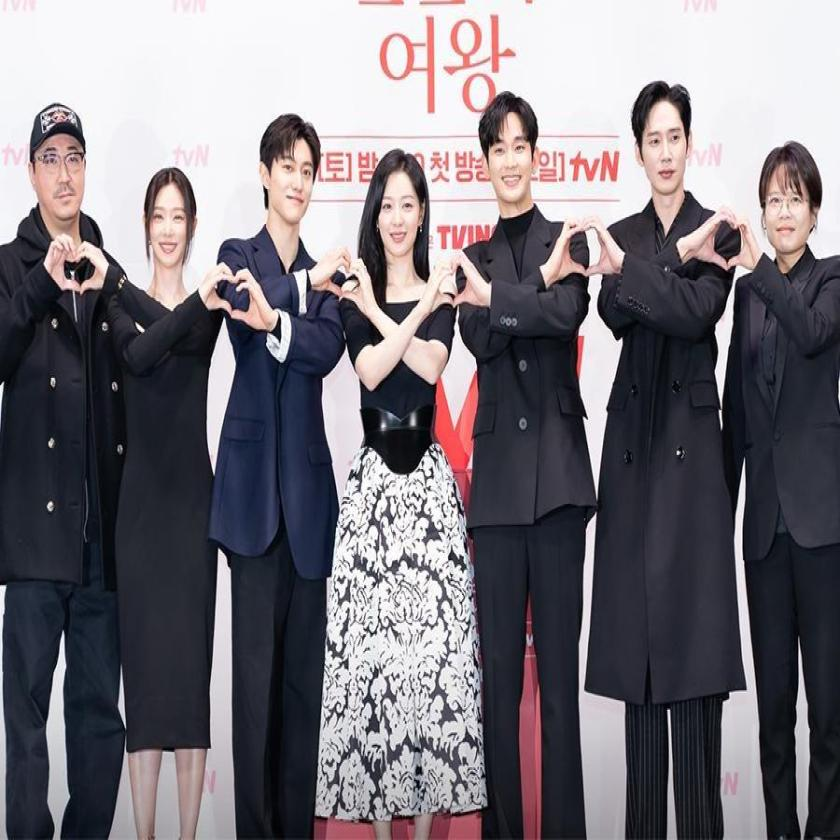Sin_casco: (628, 74, 694, 211), (26, 98, 94, 230), (474, 88, 544, 211), (258, 107, 322, 239), (364, 142, 431, 268), (752, 138, 822, 254), (138, 157, 200, 285)
